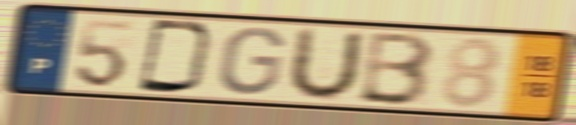5: (73, 16, 139, 89)
8: (438, 34, 506, 111)
B: (354, 29, 437, 109)
D: (134, 16, 218, 97)
G: (216, 25, 288, 98)
U: (282, 25, 367, 103)
